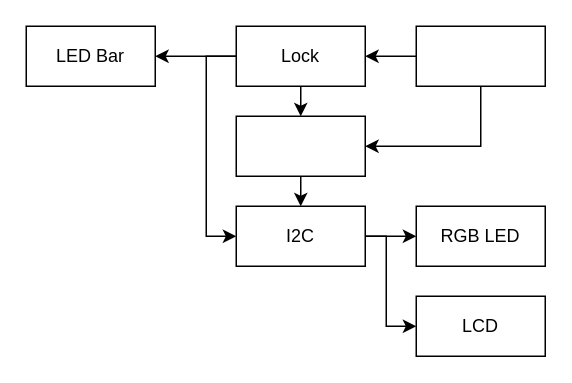
Image size: 572x383. Some labels were removed from this diagram. Each missing label, with the box of its shape:
Keypad: (415, 25, 545, 86)
Switch: (235, 115, 365, 176)
